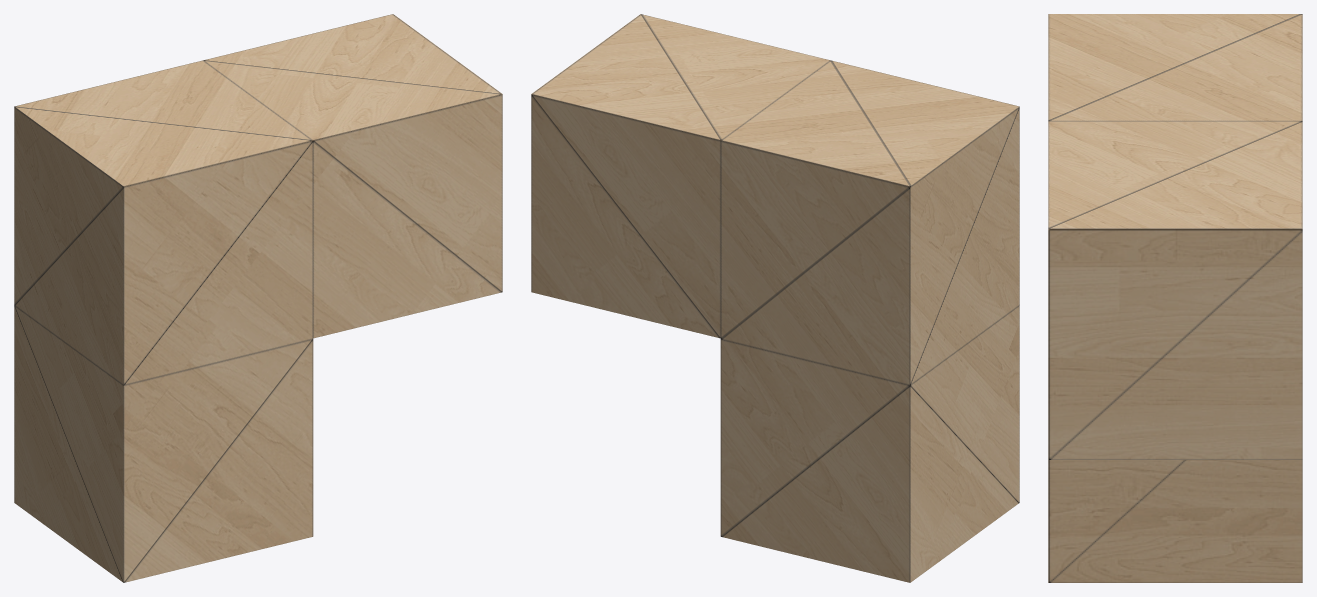
The picture shows the model from 3 angles, left to right: view 1: azimuth 30°, elevation 25°; view 2: azimuth 150°, elevation 25°; view 3: azimuth 270°, elevation 25°; orthographic projection. The views are drawn at different scales.
Parts seen in each view (by area): view 1: Cube_CubeMesh; view 2: Cube_CubeMesh; view 3: Cube_CubeMesh.
Boxes of the visible parts, x1,y1,x2,y2 form: Cube_CubeMesh: [14, 14, 502, 582]; Cube_CubeMesh: [531, 14, 1019, 582]; Cube_CubeMesh: [1048, 14, 1302, 582].
Size of the model in its own units: 4 by 4 by 2.
